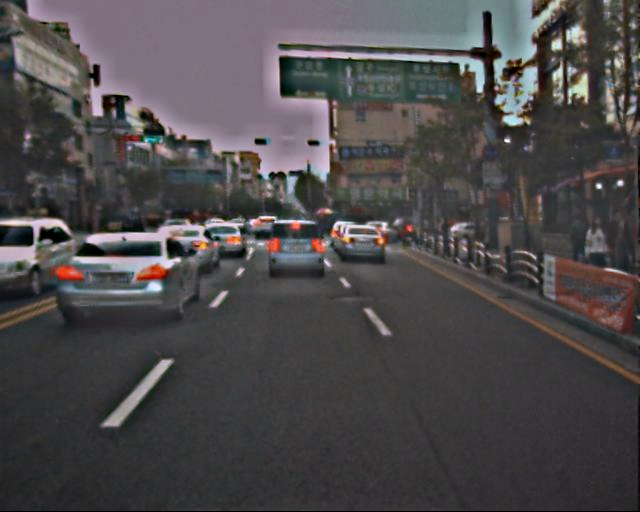person: (582, 217, 614, 296), (566, 215, 592, 278)
